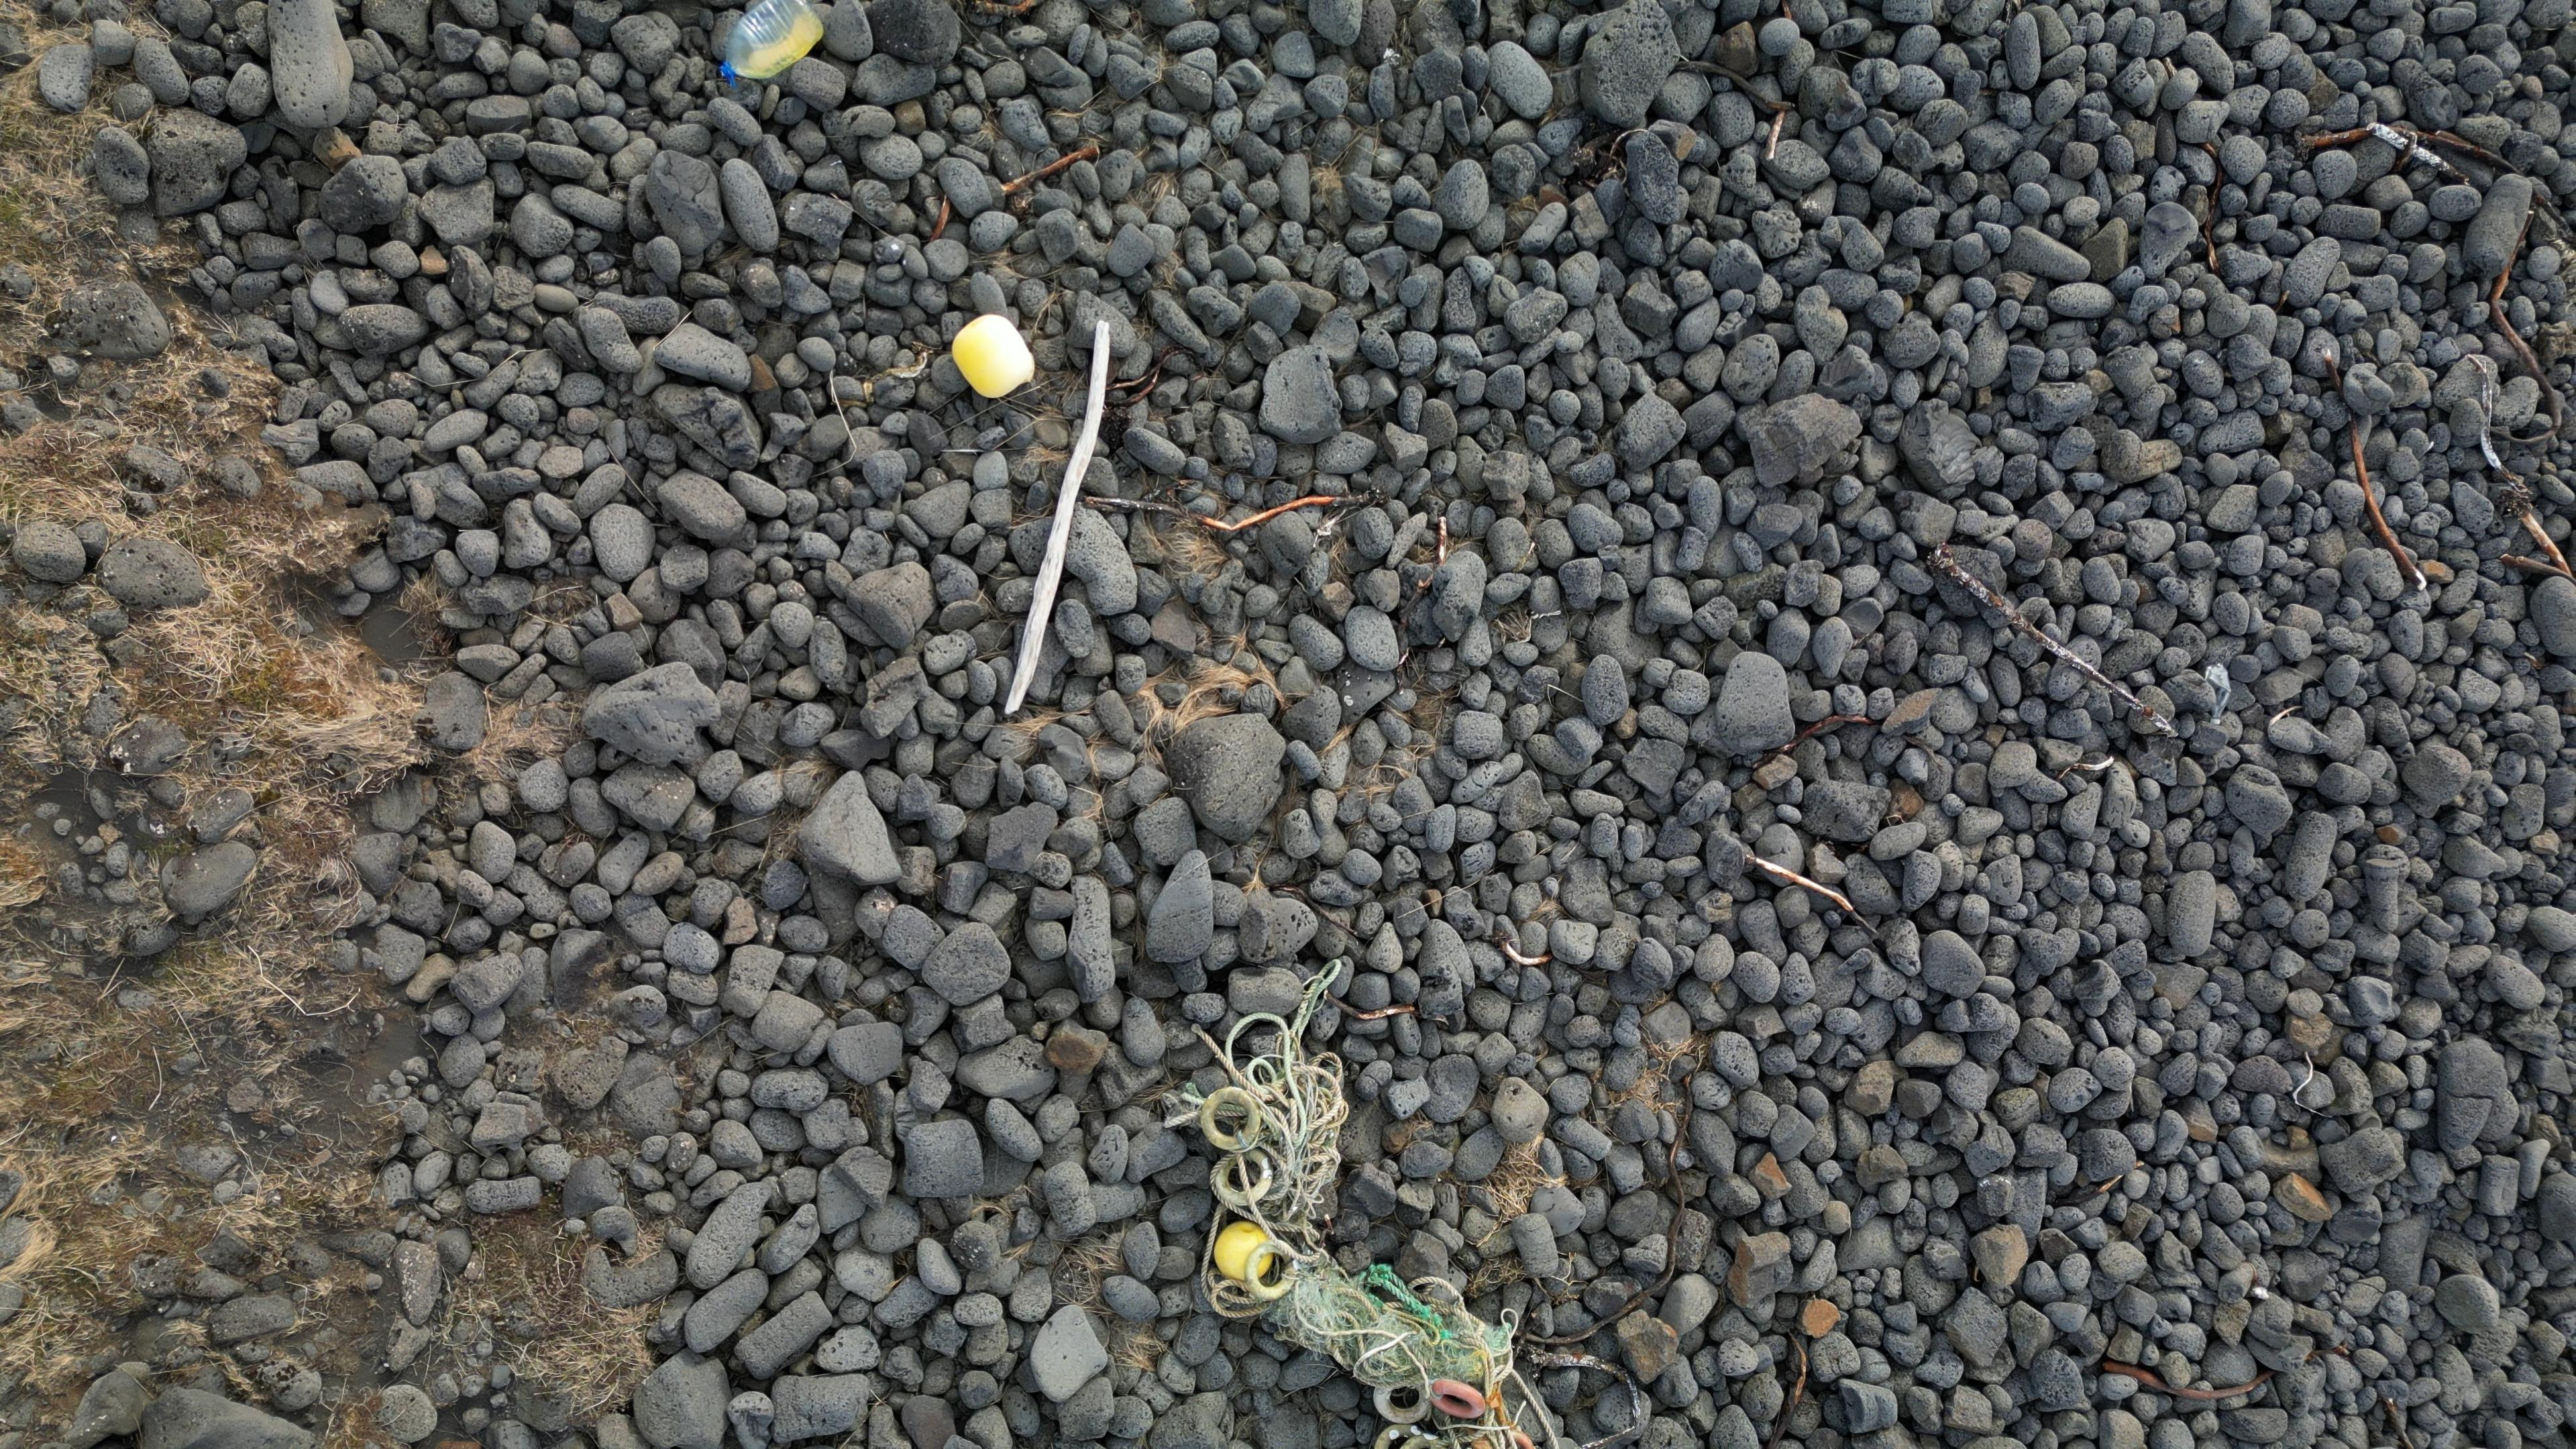trash: (1198, 971, 1529, 1449), (725, 0, 824, 81), (950, 311, 1037, 398)
